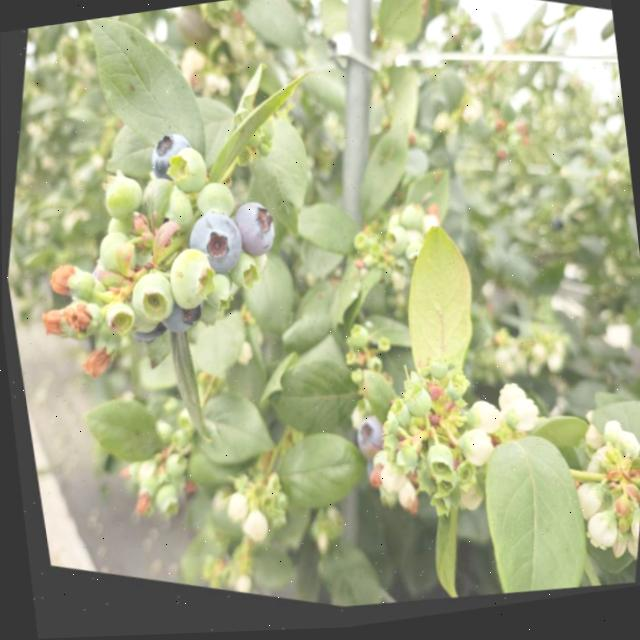RipeBlueBerry: (175, 207, 251, 292), (221, 198, 285, 273)
UnripeBlueBerry: (159, 247, 222, 326), (119, 268, 181, 341)
